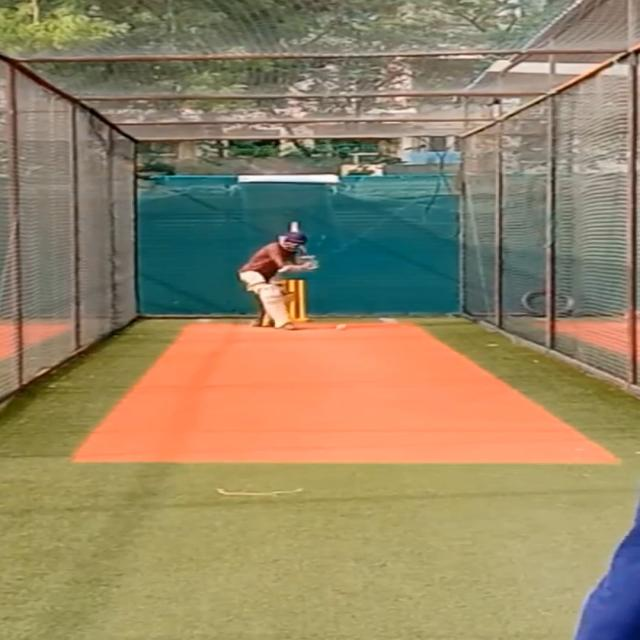ball: (335, 323, 348, 332)
stump: (286, 278, 308, 322)
